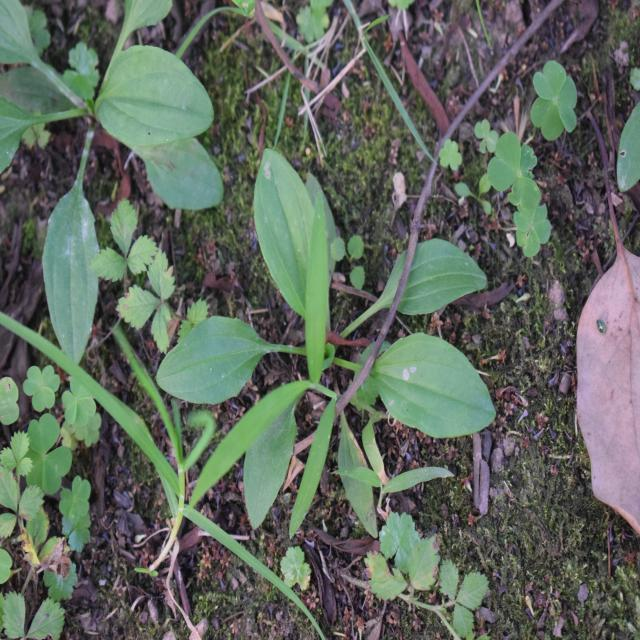plantain: (174, 167, 478, 506)
